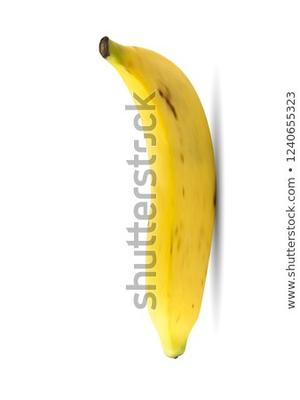banana: (0, 0, 300, 400)
